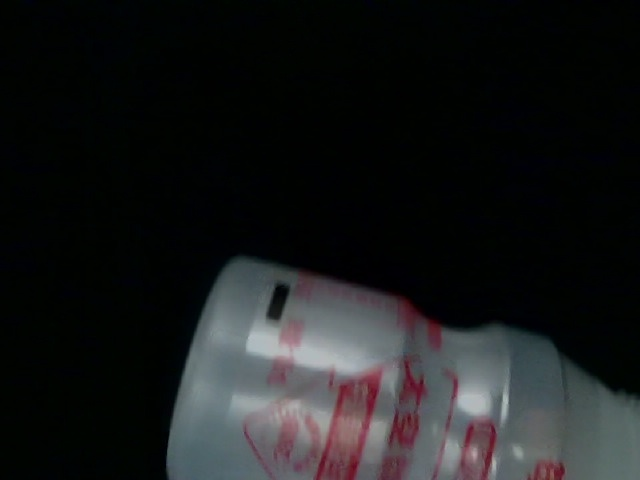CYLJ: (320, 216, 640, 475)
